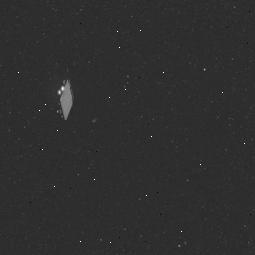proba_3_ocs: (47, 71, 116, 139)
